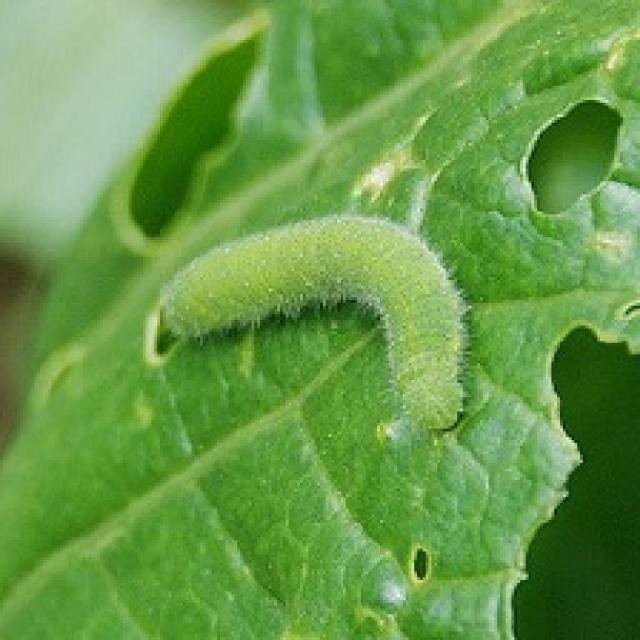Cabbage-worm: (143, 200, 498, 452)
